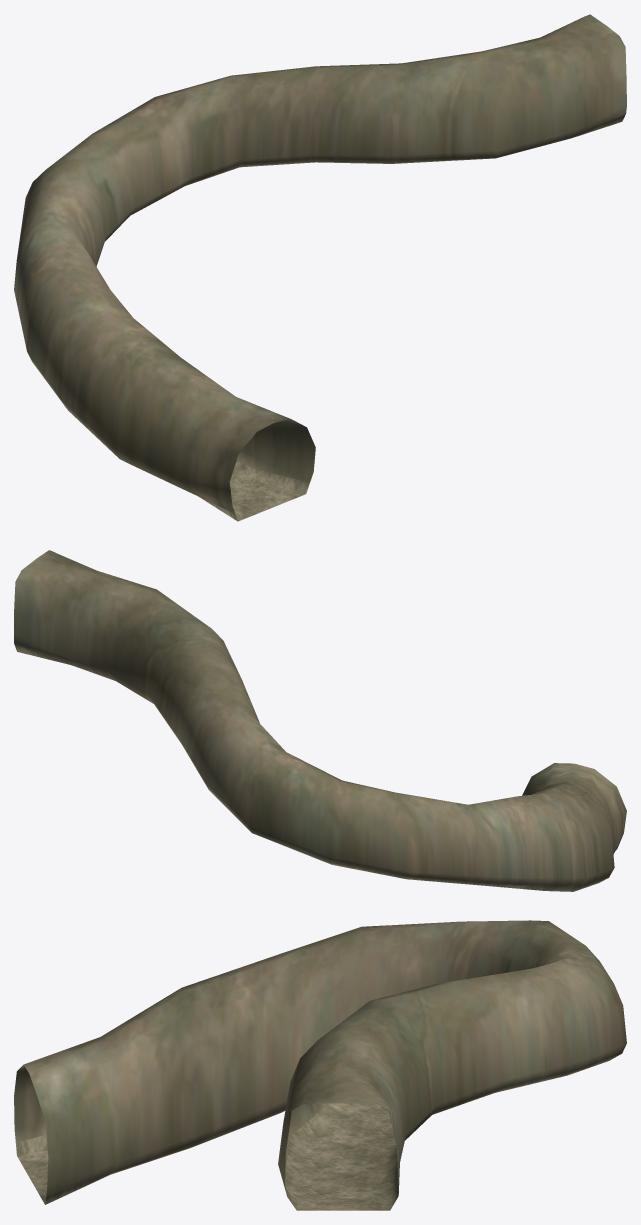
Rendered from OVERHILL_A_01_OH_CAVE_005.fbx.
3 renders of one model, top to bottom at view 1: azimuth 30°, elevation 25°; view 2: azimuth 150°, elevation 25°; view 3: azimuth 270°, elevation 25°, orthographic. The views are drawn at different scales.
Visible parts, largest first — view 1: OVERHILL_A_01_OH_CAVE_005; view 2: OVERHILL_A_01_OH_CAVE_005; view 3: OVERHILL_A_01_OH_CAVE_005.
Part boxes in pixels (left/top/right/bottom): OVERHILL_A_01_OH_CAVE_005: left=14, top=14, right=626, bottom=521; OVERHILL_A_01_OH_CAVE_005: left=14, top=550, right=626, bottom=891; OVERHILL_A_01_OH_CAVE_005: left=14, top=920, right=626, bottom=1210.
Bounding box in the file's own units: 222793 × 105978 × 164146.
Materials: 1 (1 with a texture image).
